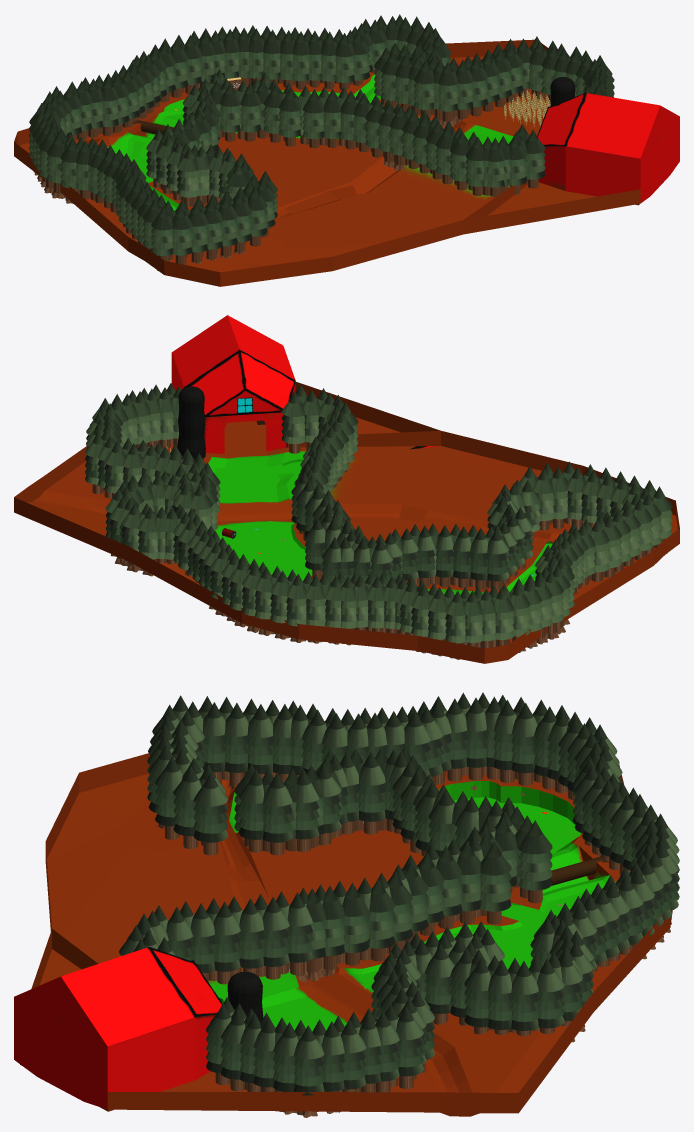
File: proyectardolvl1parte9(PreUvUnwrap).fbx
The picture shows the model from 3 angles, top to bottom: view 1: azimuth 30°, elevation 25°; view 2: azimuth 150°, elevation 25°; view 3: azimuth 270°, elevation 25°; orthographic projection. The views are drawn at different scales.
Parts seen in each view (by area): view 1: mapa, pino.161, pino.075, pino.023, mapa.001, pino.074, pino.010, pino.079, pino.078, pino.009, pino.059, pino.142 (+74 smaller); view 2: mapa, mapa.007, pino.058, pino.026, pino.224, pino.040, pino.235, pino.238, pino.028, pino.027, pino.029, pino.225 (+52 smaller); view 3: mapa, pino.017, pino.036, pino.040, pino.095, pino.185, pino.090, pino.050, pino.052, pino.046, pino.184, pino.198 (+81 smaller).
Part boxes in pixels (x1,y1,x2,y2): mapa: (14, 39, 679, 286); pino.161: (438, 61, 458, 126); pino.075: (279, 87, 300, 146); pino.023: (177, 147, 198, 206); mapa.001: (504, 89, 550, 126); pino.074: (302, 89, 323, 148); pino.010: (172, 206, 192, 264); pino.079: (219, 82, 240, 141); pino.078: (240, 82, 261, 141); pino.009: (151, 206, 172, 270); pino.059: (525, 129, 545, 188); pino.142: (335, 33, 354, 90); mapa: (14, 315, 679, 663); mapa.007: (177, 386, 205, 459); pino.058: (281, 391, 304, 453); pino.026: (487, 529, 509, 590); pino.224: (286, 574, 306, 642); pino.040: (305, 518, 325, 579); pino.235: (445, 590, 465, 659); pino.238: (494, 587, 513, 646); pino.028: (453, 526, 471, 588); pino.027: (470, 528, 488, 589); pino.029: (435, 525, 453, 586); pino.225: (306, 574, 325, 643); mapa: (14, 753, 672, 1116); pino.017: (194, 772, 228, 855); pino.036: (518, 820, 552, 903); pino.040: (480, 841, 511, 924); pino.095: (263, 772, 292, 855); pino.185: (294, 1025, 324, 1117); pino.090: (359, 751, 385, 834); pino.050: (262, 896, 289, 979); pino.052: (213, 901, 240, 984); pino.046: (369, 878, 395, 961); pino.184: (287, 892, 312, 982); pino.198: (424, 943, 454, 1024).
Bounding box in the file's own units: 11005 × 1929 × 8891.
